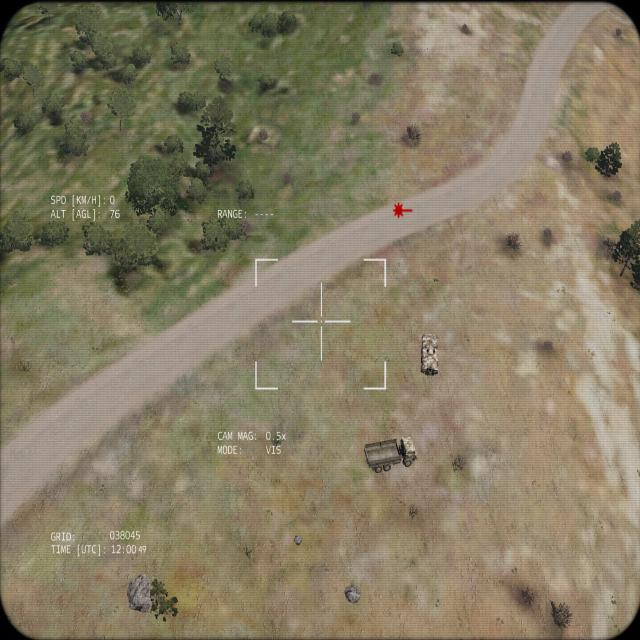apc: (419, 332, 438, 376)
truck: (363, 433, 416, 475)
